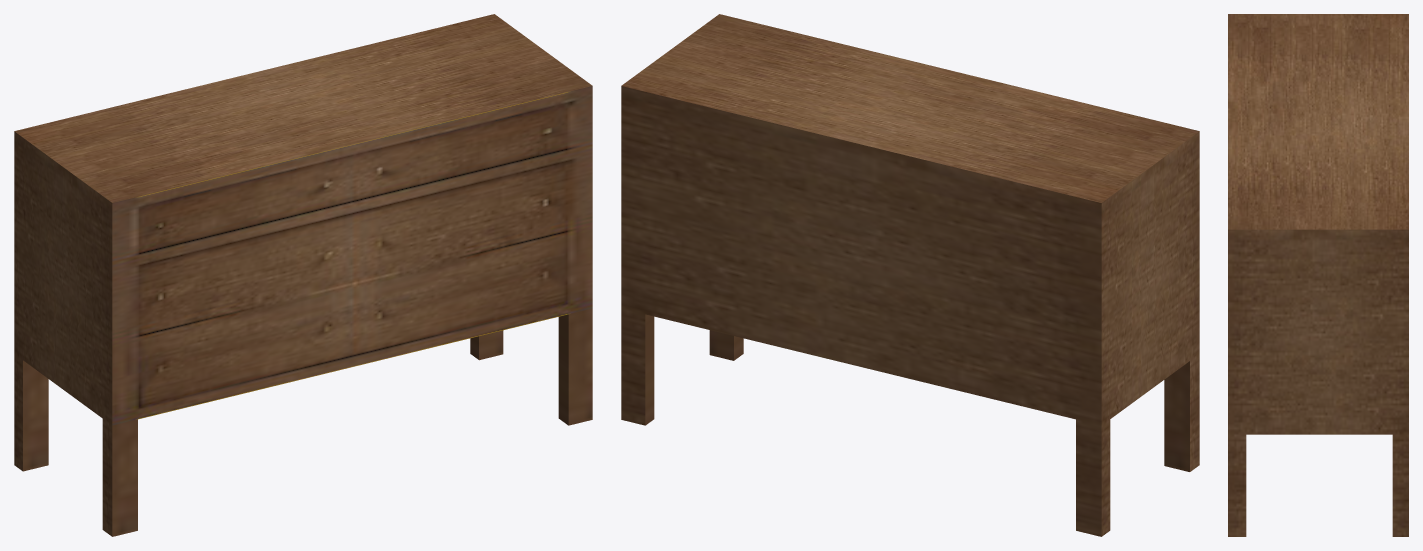
The model's file is Dresser.fbx_Scene.fbx.
3 renders of one model, left to right at view 1: azimuth 30°, elevation 25°; view 2: azimuth 150°, elevation 25°; view 3: azimuth 270°, elevation 25°, orthographic. The views are drawn at different scales.
Visible parts, largest first — view 1: Dresser; view 2: Dresser; view 3: Dresser.
Part boxes in pixels (<box>): Dresser: <box>14,14,592,536</box>; Dresser: <box>621,14,1199,536</box>; Dresser: <box>1228,14,1408,536</box>.
Bounding box in the file's own units: 141 × 93.55 × 49.9.
2 materials, 2 textured.
